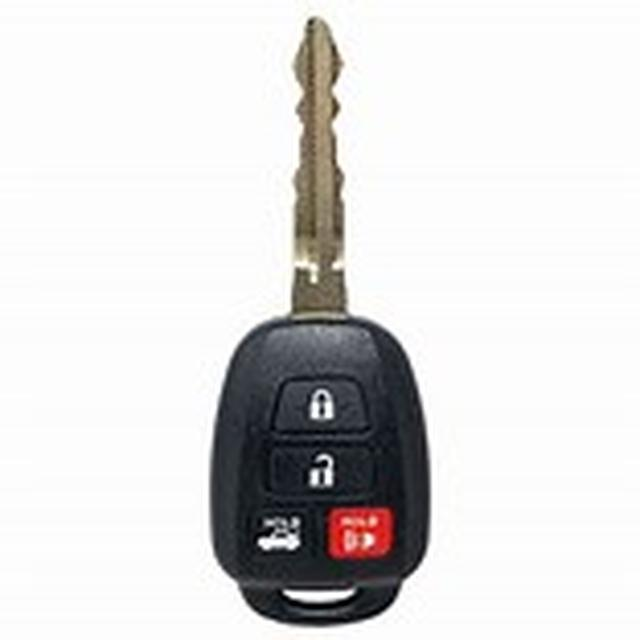key: (212, 6, 434, 631)
